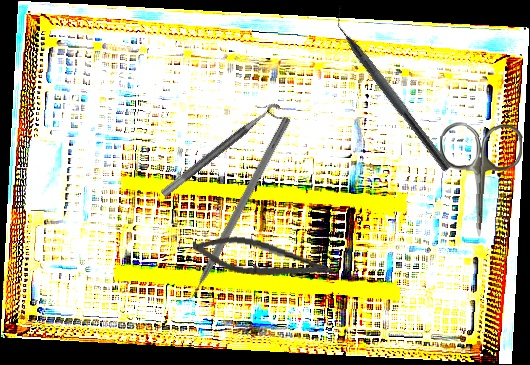Chopper: (172, 110, 292, 312), (323, 3, 462, 173)
Fixation Ring: (159, 100, 289, 208)
Iris Scissors: (437, 121, 523, 239)
Micro Scissor: (190, 231, 339, 285)
